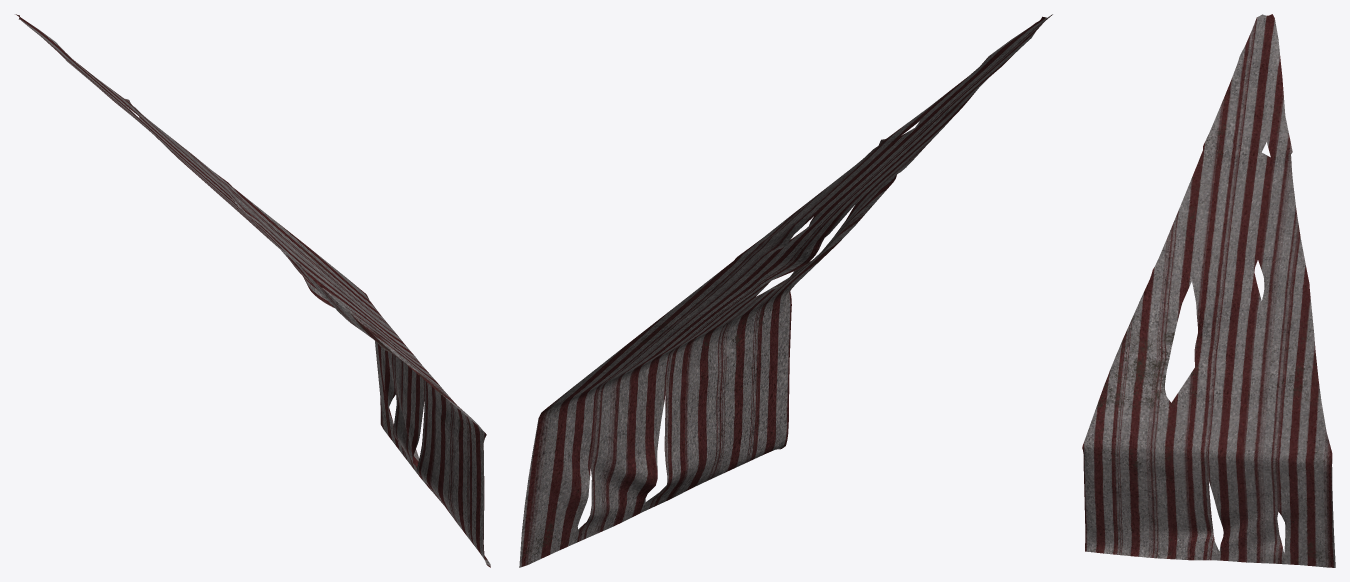
Rendered from Tent_P_Rag02.FBX.
The picture shows the model from 3 angles, left to right: view 1: azimuth 30°, elevation 25°; view 2: azimuth 150°, elevation 25°; view 3: azimuth 270°, elevation 25°; orthographic projection. The views are drawn at different scales.
Visible parts, largest first — view 1: Tent_P_Rag02; view 2: Tent_P_Rag02; view 3: Tent_P_Rag02.
Boxes of the visible parts, <box> form: Tent_P_Rag02: <box>15,14,490,567</box>; Tent_P_Rag02: <box>519,14,1052,567</box>; Tent_P_Rag02: <box>1082,14,1335,567</box>.
Size of the model in its own units: 1349 by 1724 by 968.
